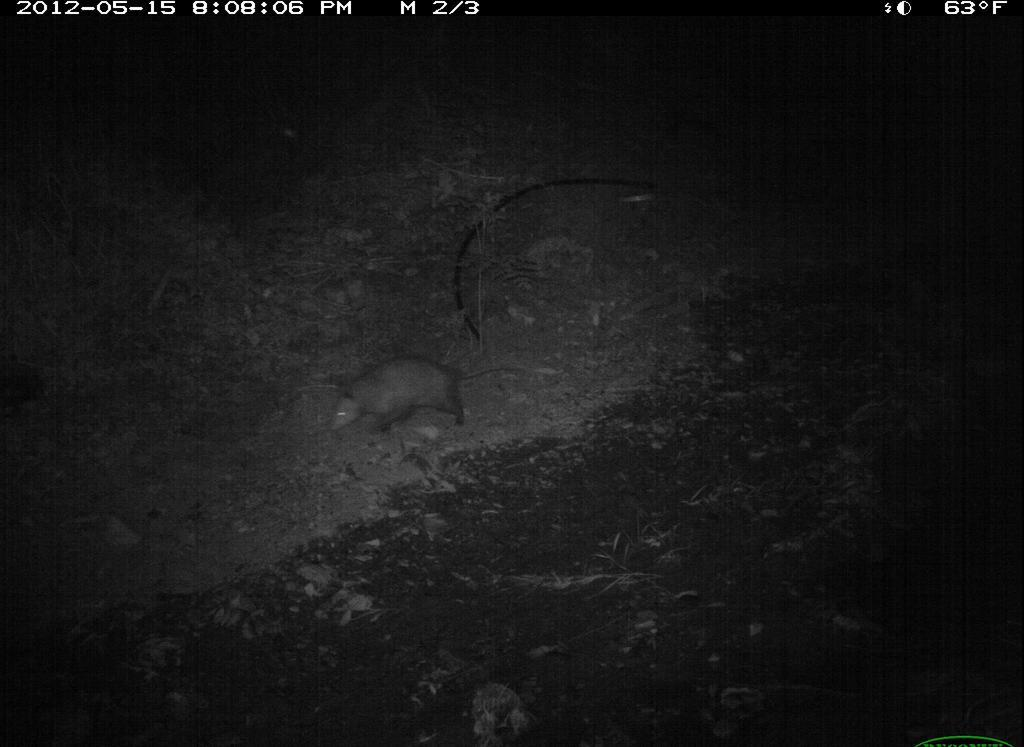opossum: (319, 340, 562, 446)
